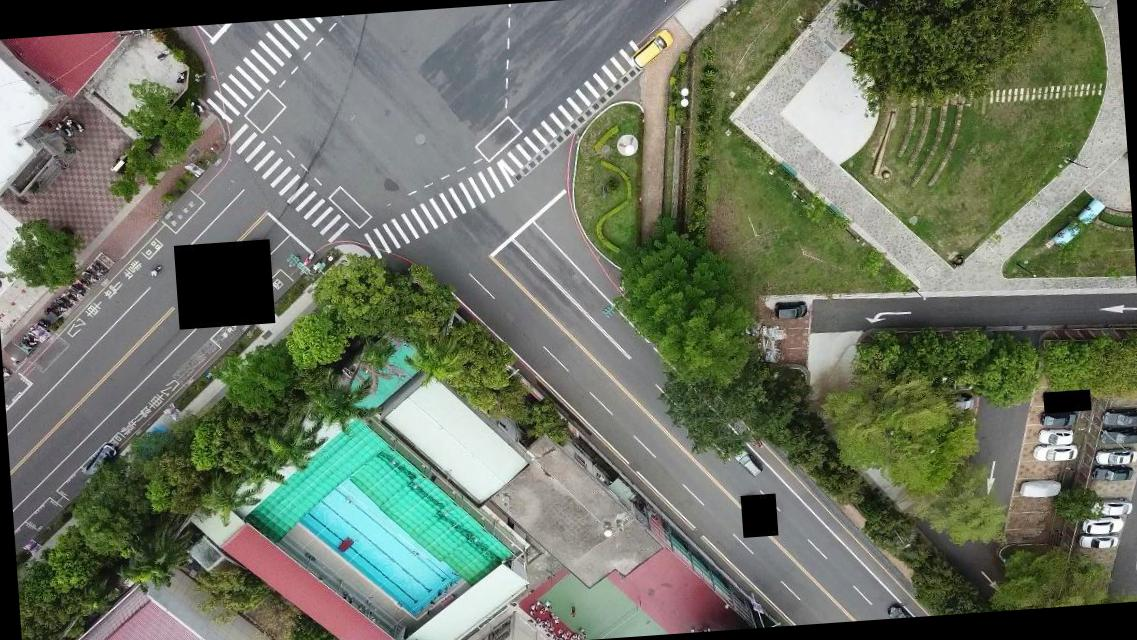vehicle: (628, 27, 677, 70), (84, 442, 120, 479), (732, 446, 762, 478), (1091, 446, 1136, 467), (1031, 443, 1079, 462), (1081, 514, 1124, 534), (1090, 497, 1133, 517), (1090, 464, 1134, 483), (1077, 532, 1119, 551), (1099, 407, 1136, 427), (1099, 426, 1136, 445), (1038, 410, 1076, 428), (774, 300, 808, 320), (939, 393, 973, 413), (1037, 428, 1074, 446), (884, 602, 912, 618)
